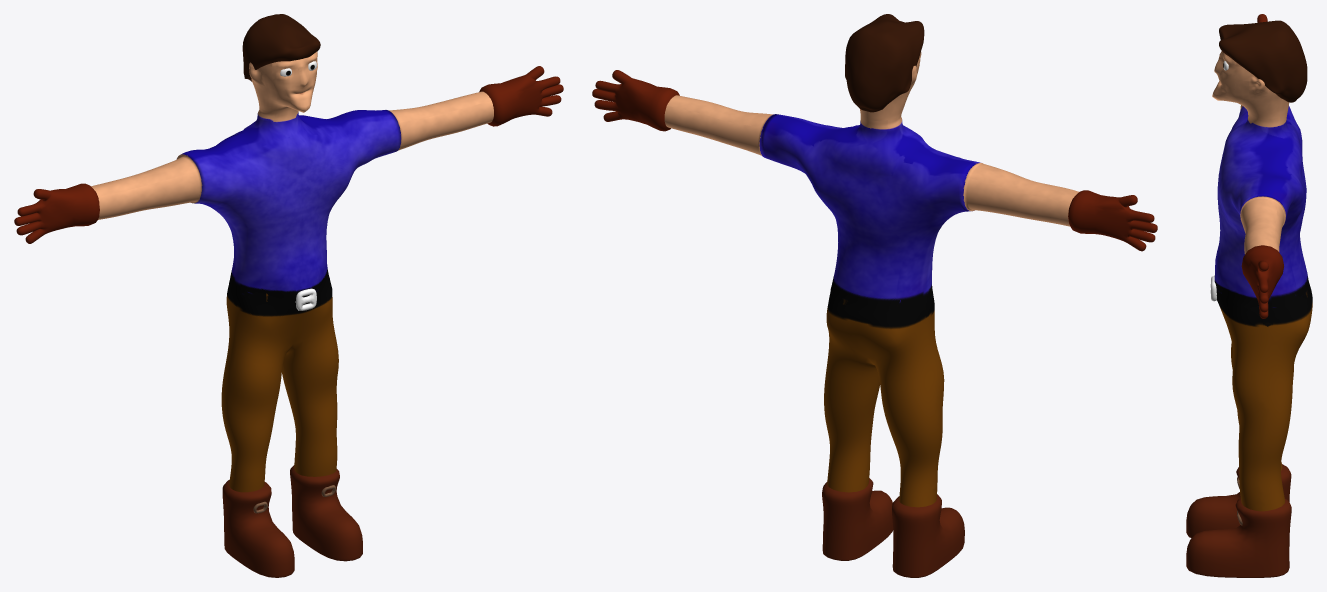
The model's file is Character1.obj.
The picture shows the model from 3 angles, left to right: view 1: azimuth 30°, elevation 25°; view 2: azimuth 150°, elevation 25°; view 3: azimuth 270°, elevation 25°; orthographic projection. The views are drawn at different scales.
Parts seen in each view (by area): view 1: Schuh1_Plane.005; view 2: Schuh1_Plane.005; view 3: Schuh1_Plane.005.
Boxes of the visible parts, box(x1,y1,x2,y2) form: Schuh1_Plane.005: box(14, 14, 563, 577); Schuh1_Plane.005: box(592, 14, 1157, 577); Schuh1_Plane.005: box(1186, 14, 1312, 577).
Size of the model in its own units: 3.81 by 3.47 by 0.7531.
